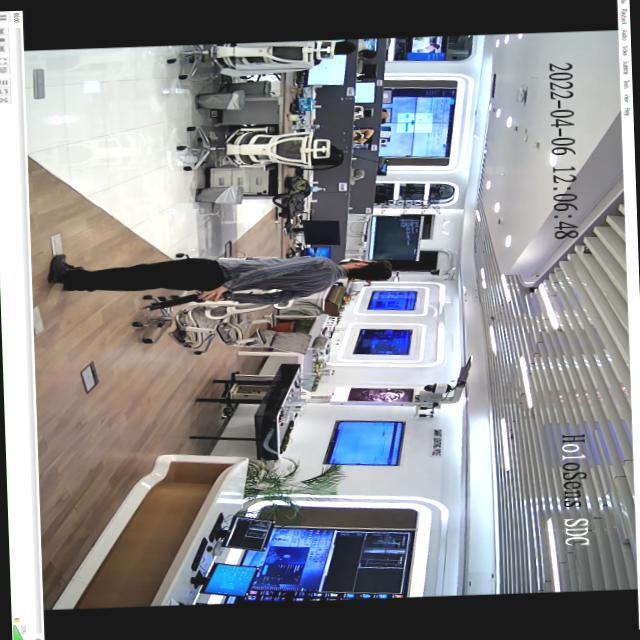long weapon: (126, 287, 240, 318)
